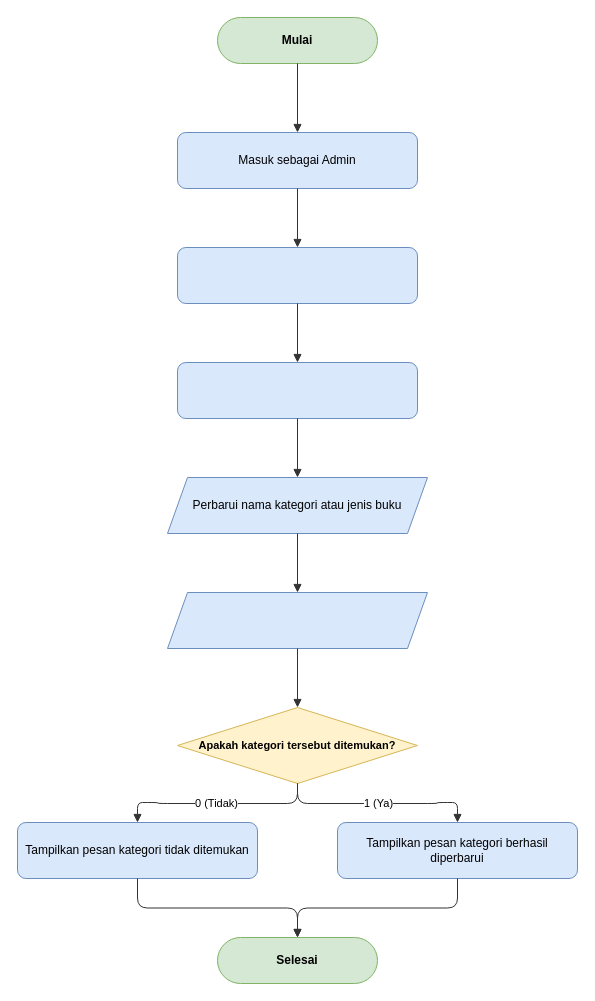
This 595x1001 diagram has some shape labels left out. Each missing label, with the centre of its shape:
"Buka menu kategori buku" belongs at point (297, 275).
"Klik tombol simpan perubahan" belongs at point (297, 620).
"Pilih kategori yang ingin diubah" belongs at point (297, 390).
